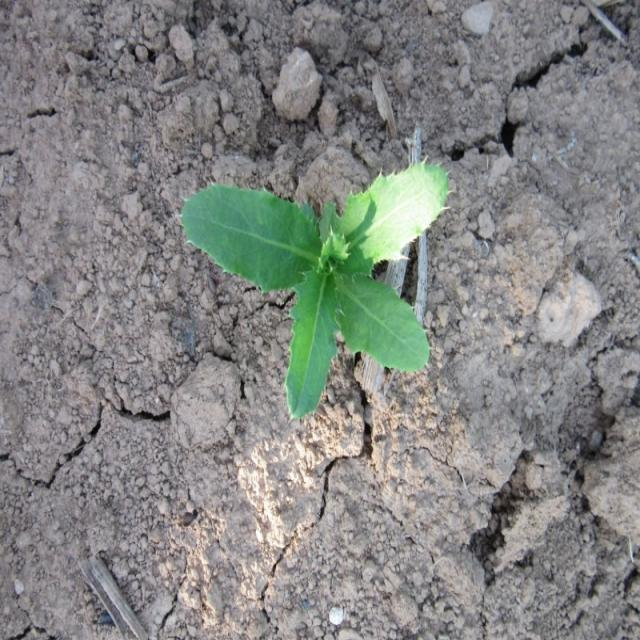cs: (179, 155, 453, 425)
